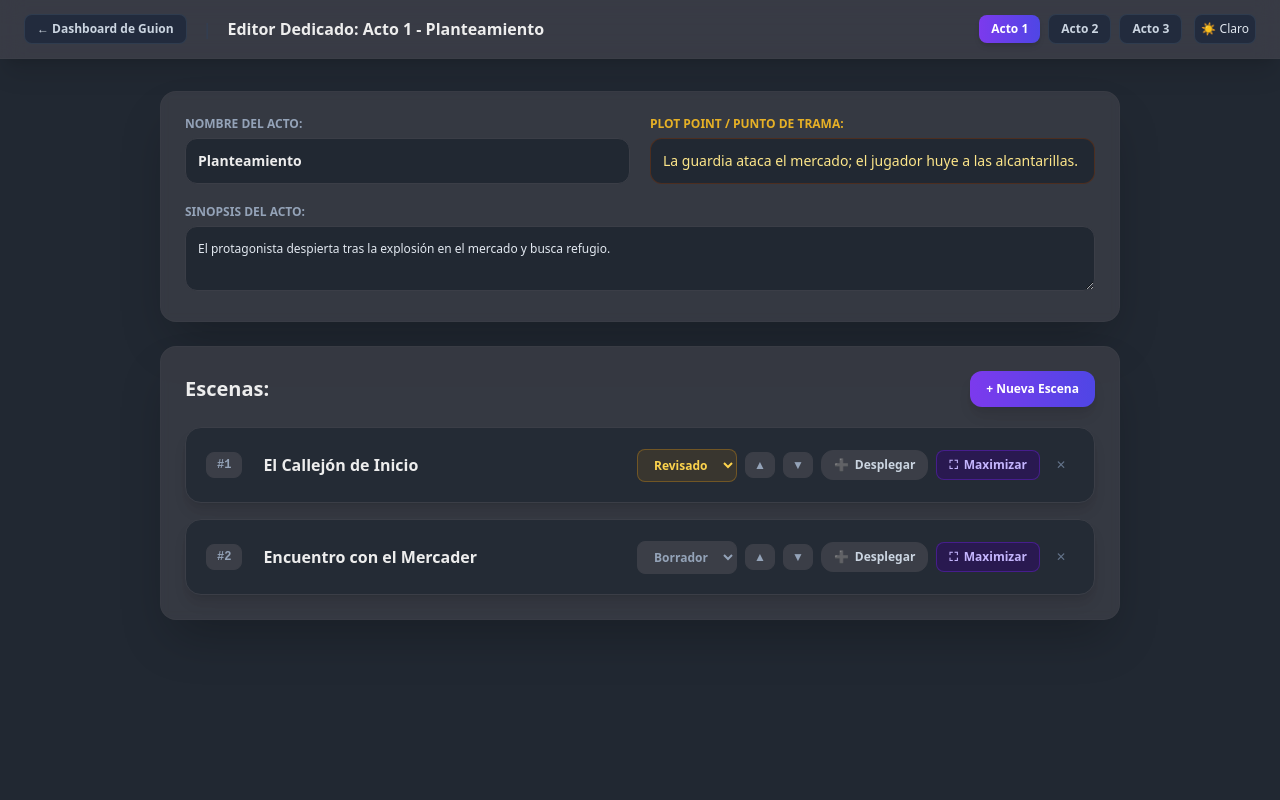
Test: GuionStudio App & Unified Script Dashboard › allows adding and removing scene connections in MaximizedSceneModal
Note: Open maximize modal for first scene
Click the 1st button "⛶ Maximizar" at x=988, y=465, box [936,450,1040,480]
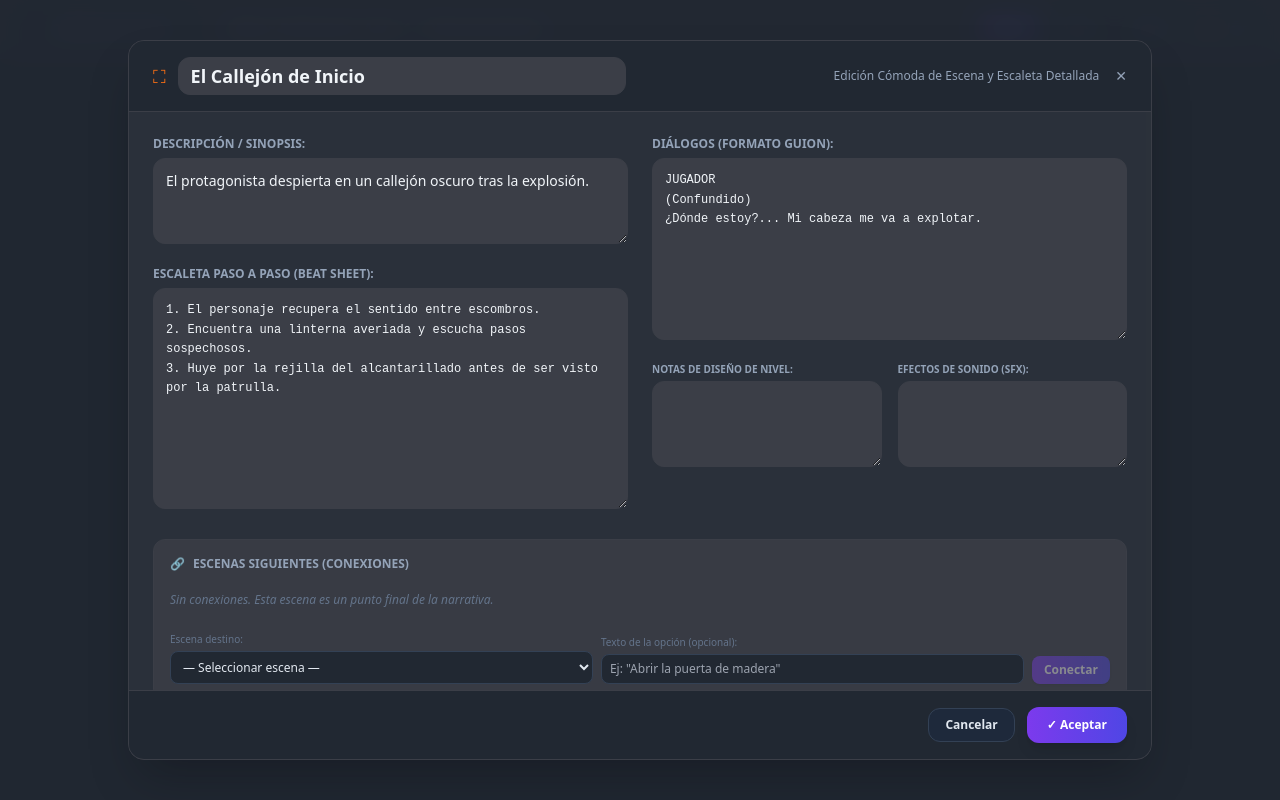
Expected: the heading "🔗 Escenas Siguientes (Conexiones)" is shown, [170,555,409,572]
Expected: the text "Sin conexiones" is shown, [170,591,494,608]
Select "Encuentro con el Mercader (Acto 1)" in the dropdown showing "— Seleccionar escena —" at x=381, y=668, box [170,651,593,684]
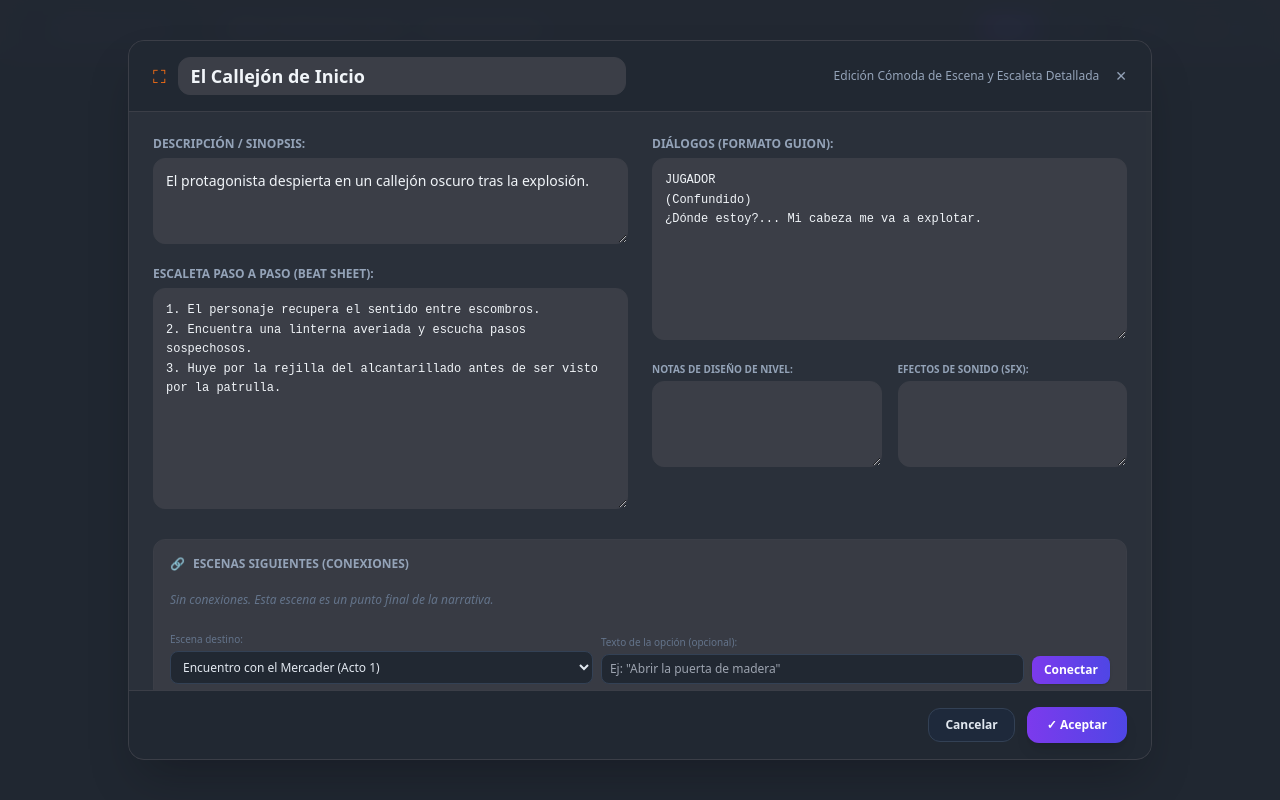
Note: Enter choice label
Type "Ir a comprar equipamiento" into the field with placeholder "Ej: \"Abrir la puerta de madera\"" at x=812, y=669, box [601,654,1024,684]
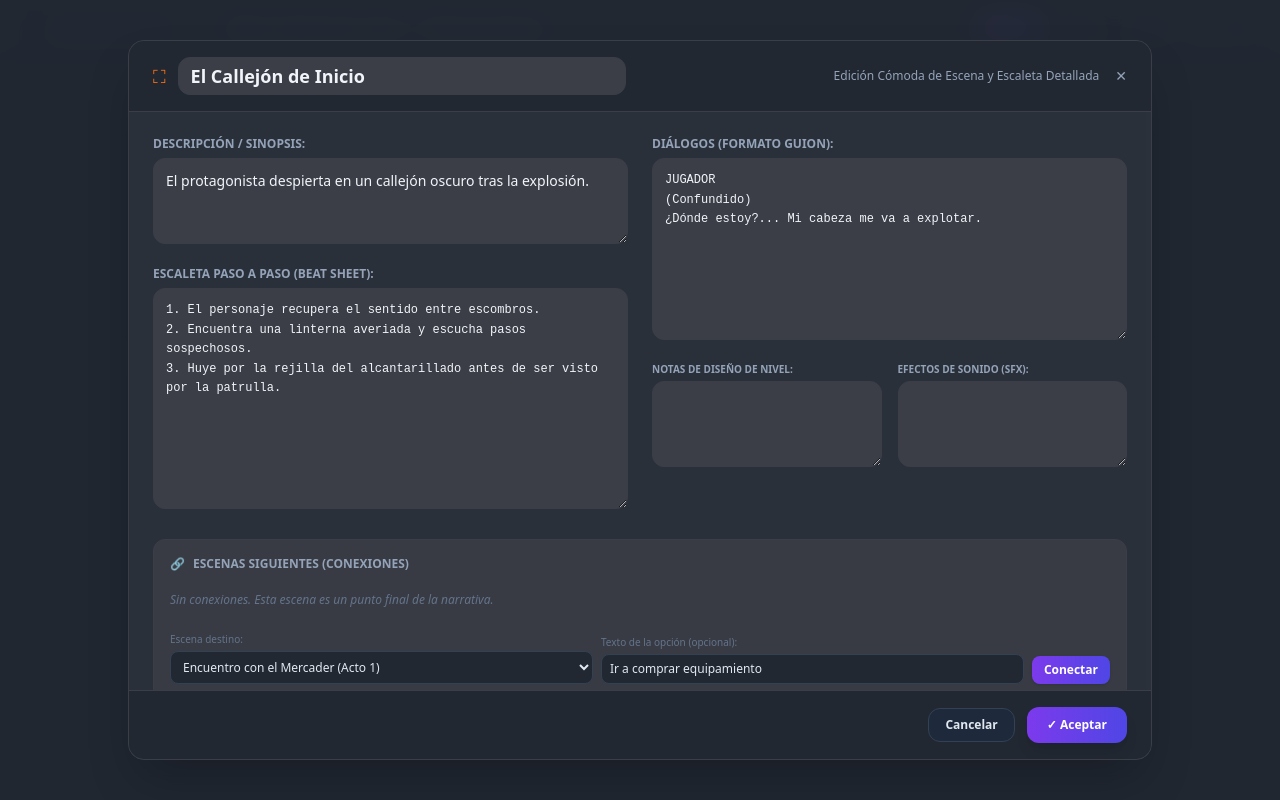
Note: Click Conectar button
Click the button "Conectar" at x=1071, y=670, box [1032,656,1110,684]
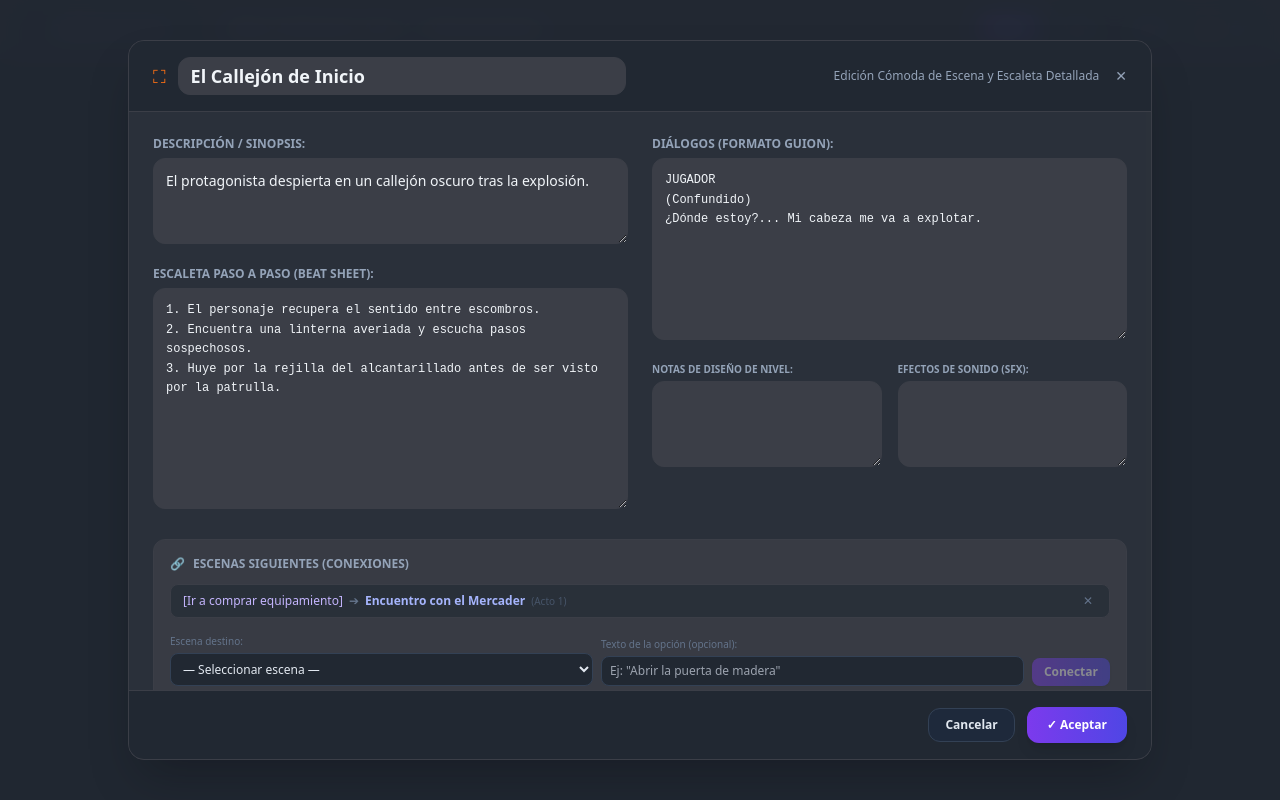
Expected: the text "[Ir a comprar equipamiento]" is shown, [183,593,343,609]
Expected: the text "Encuentro con el Mercader" is shown, [365,593,525,609]
Note: Accept modal changes
Click the button "✓ Aceptar" at x=1077, y=725, box [1027,707,1127,743]
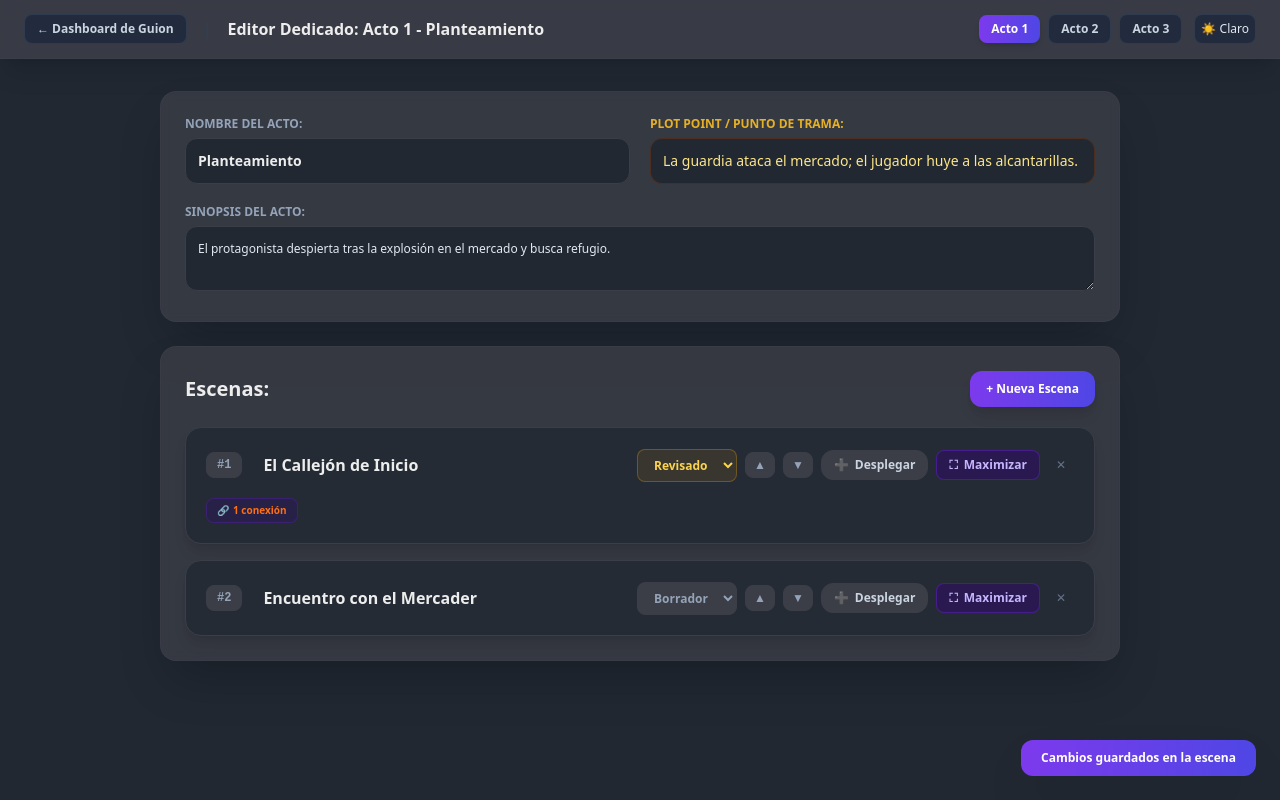
Expected: the text "1 conexión" is shown, [233,503,286,518]
